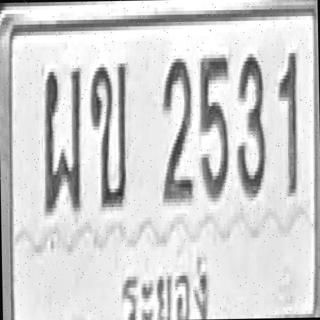A02: (89, 59, 129, 208)
A28: (41, 66, 83, 214)
N01: (277, 51, 299, 195)
N02: (160, 54, 193, 202)
N03: (235, 50, 267, 197)
N05: (198, 52, 231, 200)
P53: (113, 249, 217, 320)
